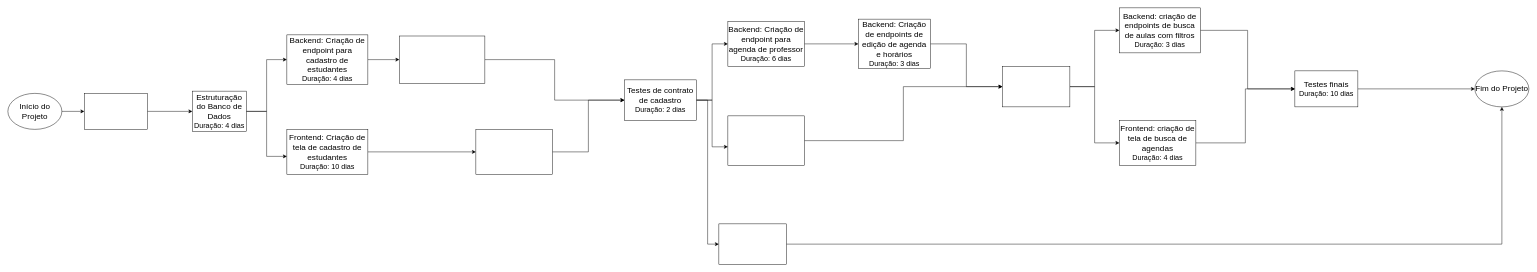
The diagram is 1537 pixels wide and 272 high, and some of its shapes have lost their labels. Each missing label, with the centre of its shape:
"Backend: Criação de endpoint para cadastro de professores Duração: 3 dias" belongs at pixel 442 59.
"Criação das Aplicações Base Duração: 7 dias" belongs at pixel 115 111.
"Frontend: Criação de tela de cadastro de professores Duração: 5 dias" belongs at pixel 513 151.
"Frontend: Criação de tela para agenda de professor Duração: 14 dias" belongs at pixel 765 140.
"Teste de contrato de agenda Duração: 2 dias" belongs at pixel 1036 86.
"Testes Unitários Duração: 30 dias" belongs at pixel 752 243.
